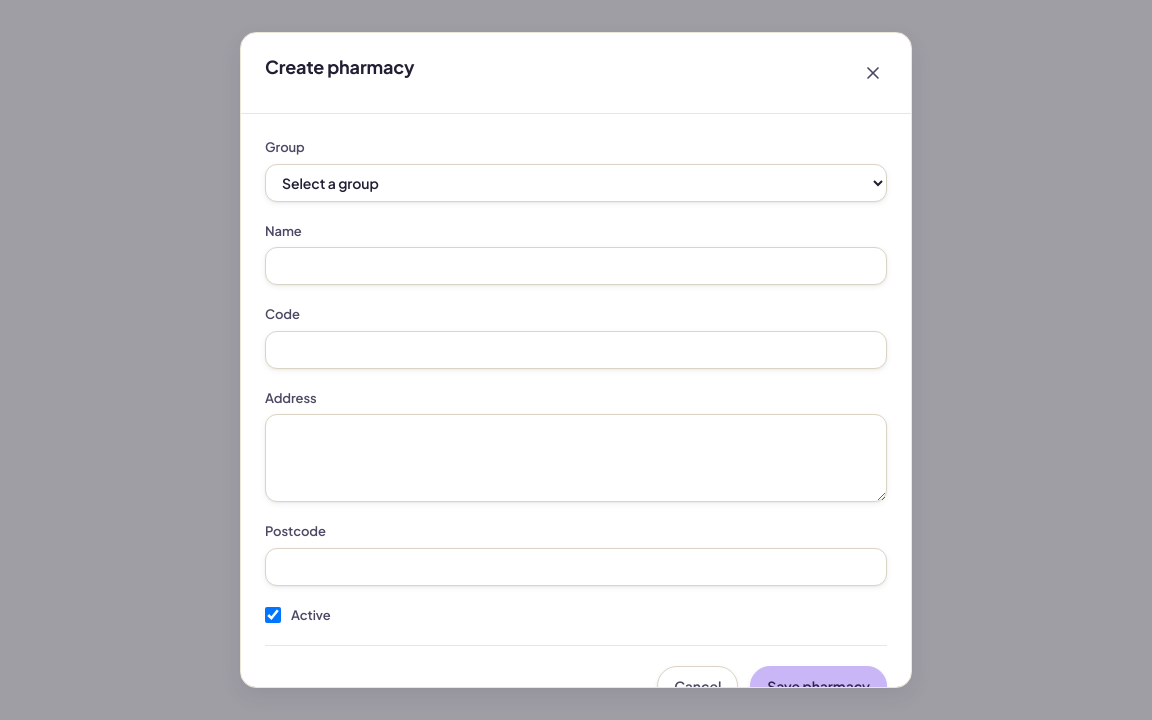
Test case: PharmacyFormModal › duplicate group/code backend 400 renders on code field
Select "North Group" in the dropdown labelled "Group". click: {"x": 576, "y": 182}
box: [265,164,887,202]
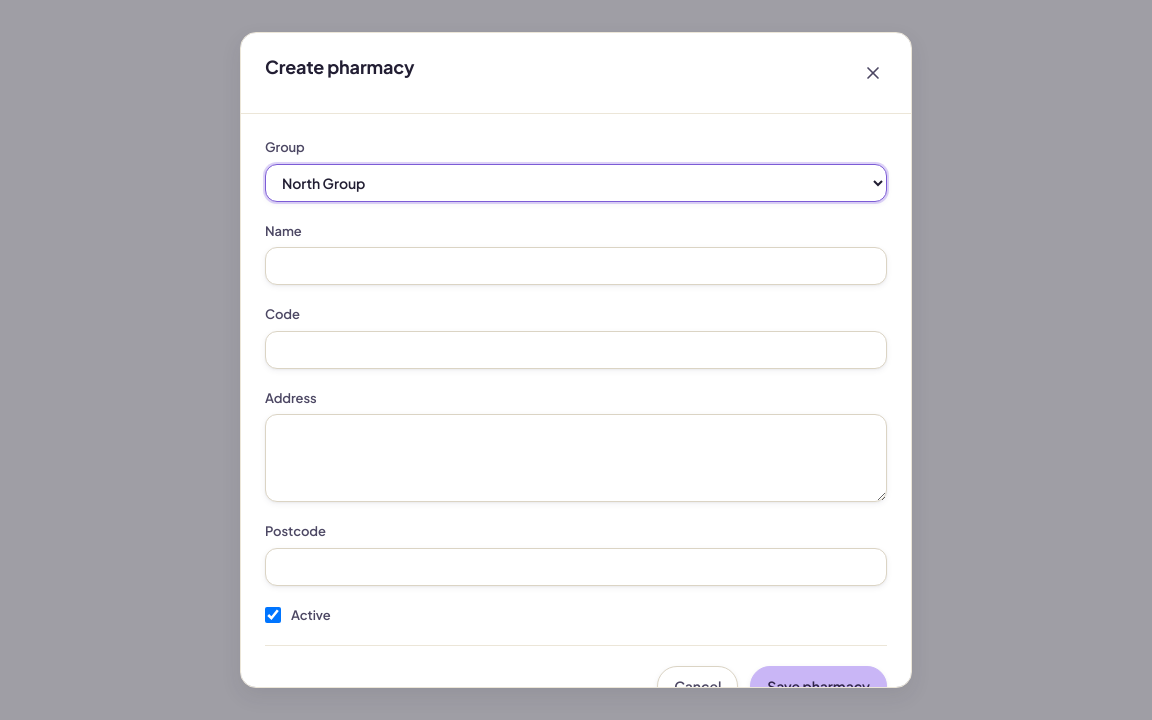
Type "Central Pharmacy" into the field labelled "Name". click: {"x": 576, "y": 266}
box: [265,247,887,285]
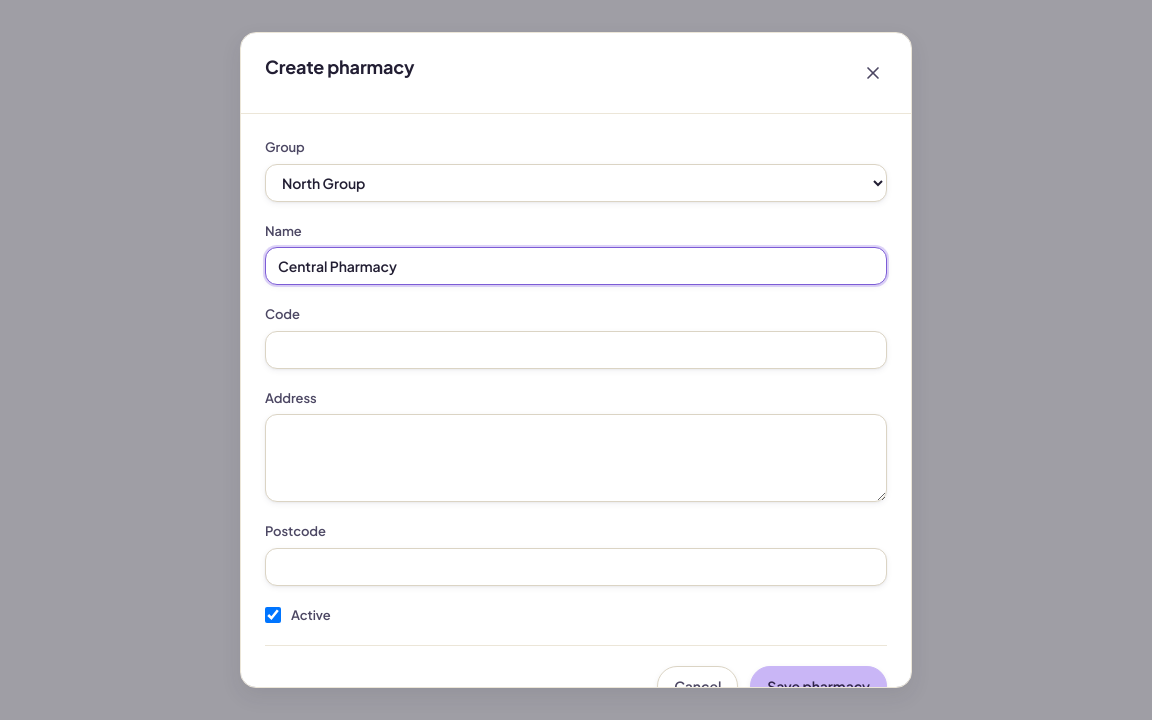
Type "CP1" into the field labelled "Code". click: {"x": 576, "y": 350}
box: [265,330,887,368]
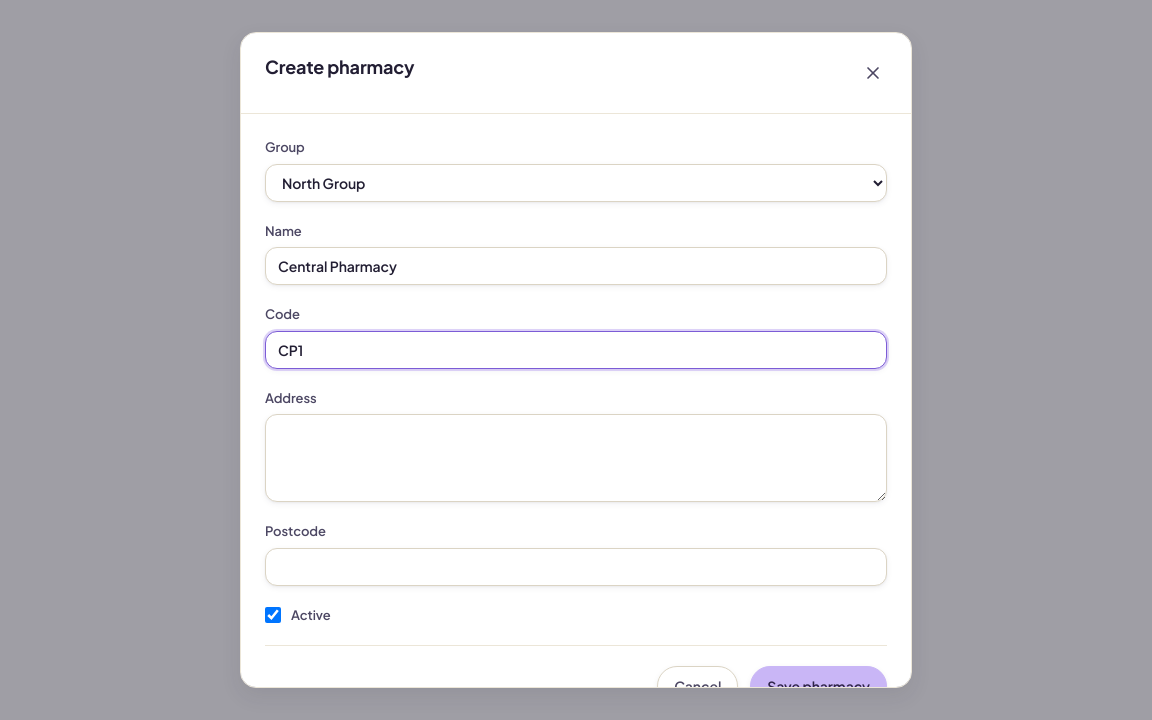
Click the button "Save pharmacy". click: {"x": 819, "y": 686}
box: [750,666,887,706]
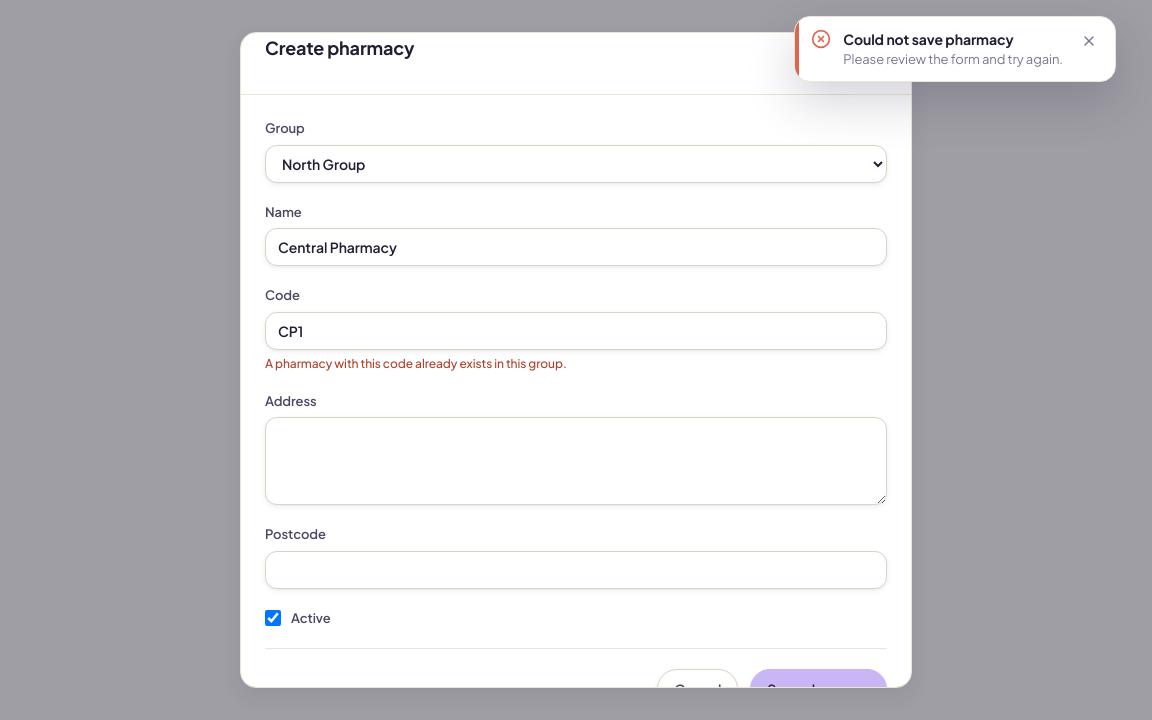
expect the list item "A pharmacy with this code already exists in this group." is shown: met, box [265,356,567,370]
